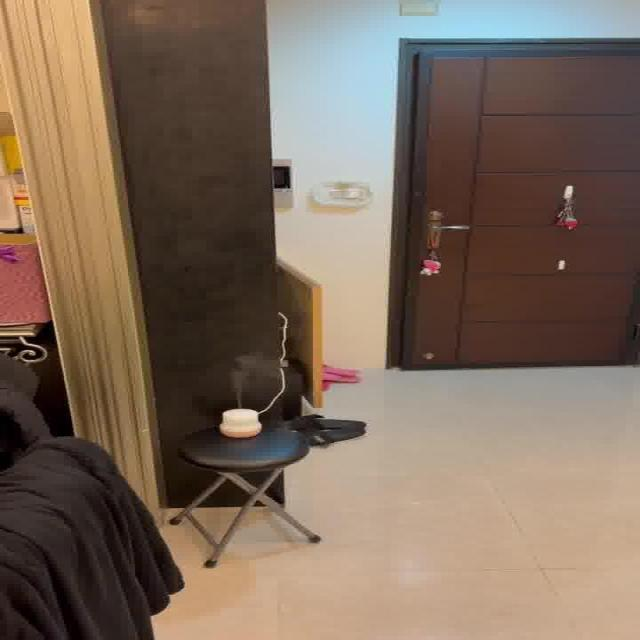fire: (228, 352, 271, 395)
